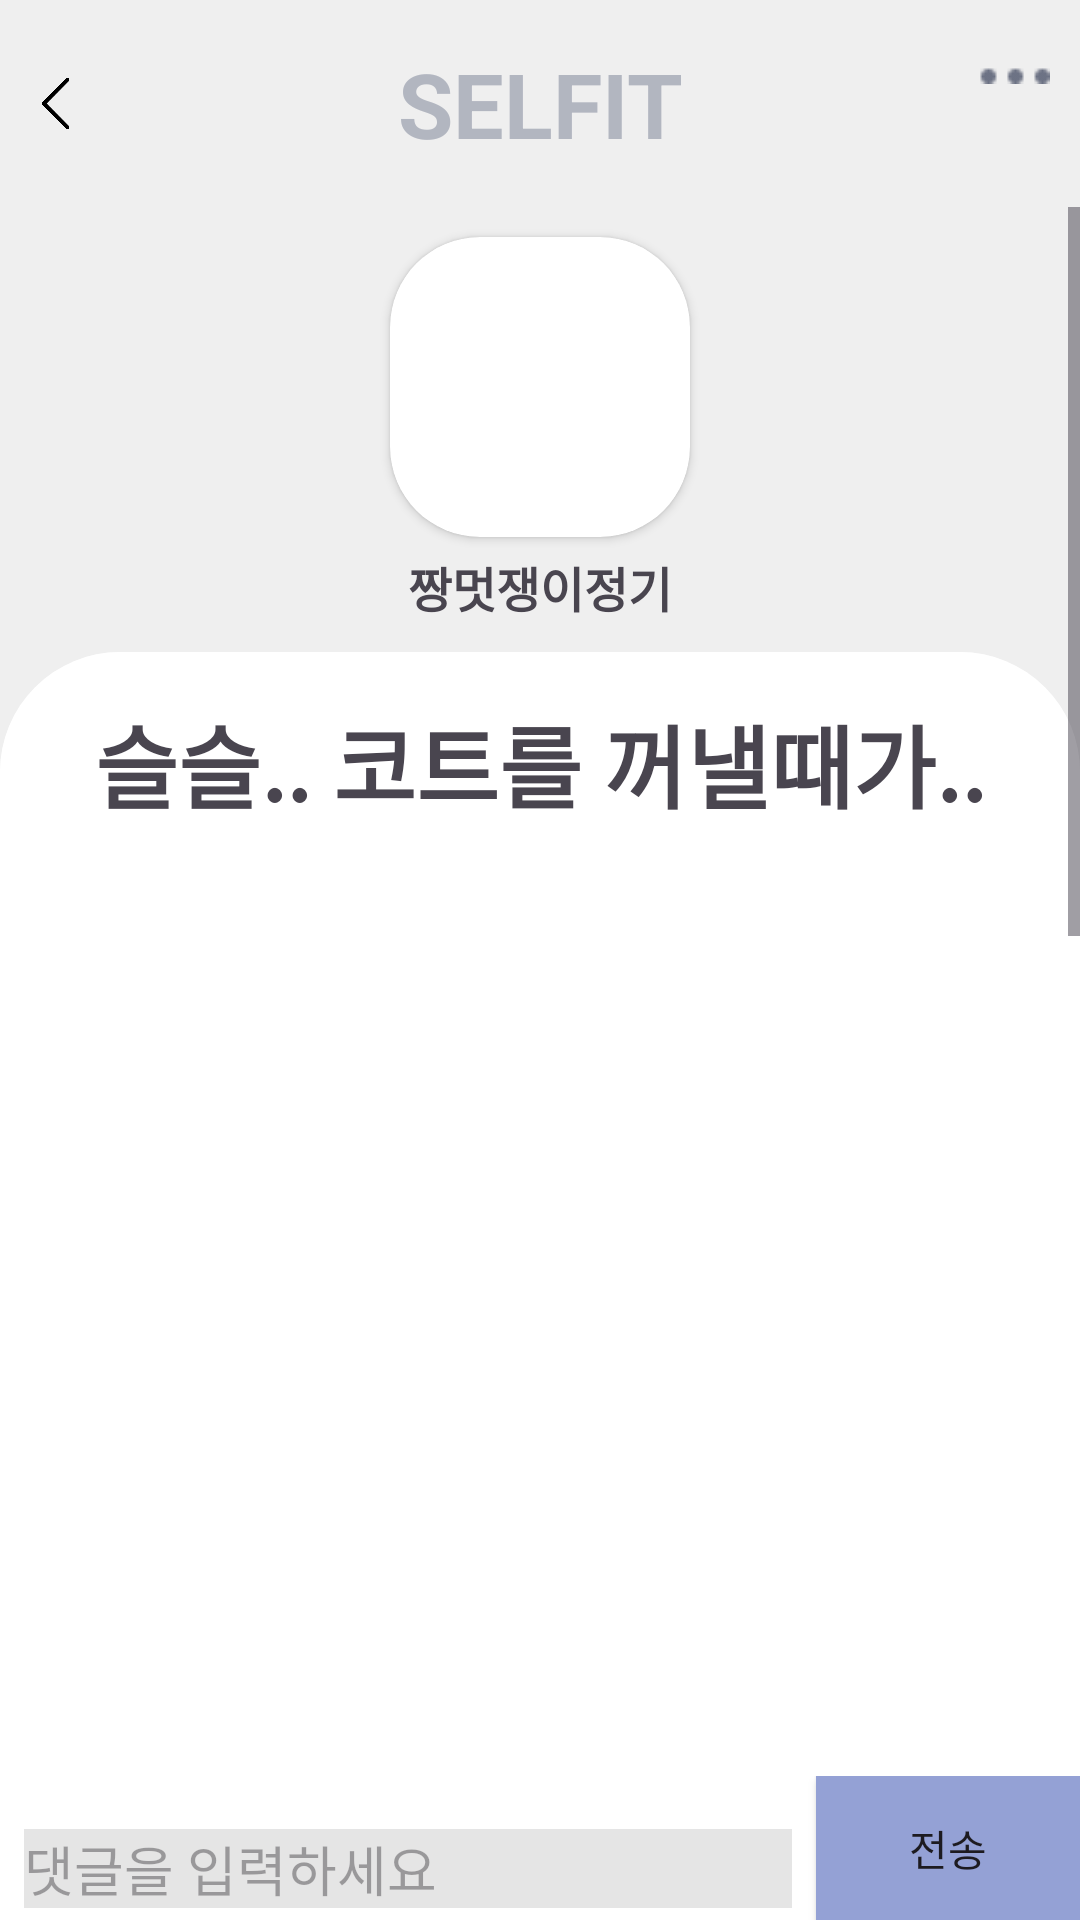

Where icons sit on this 1080×1920 app screen, as (x1, y1, x2, y2):
back: (42, 78, 69, 129)
